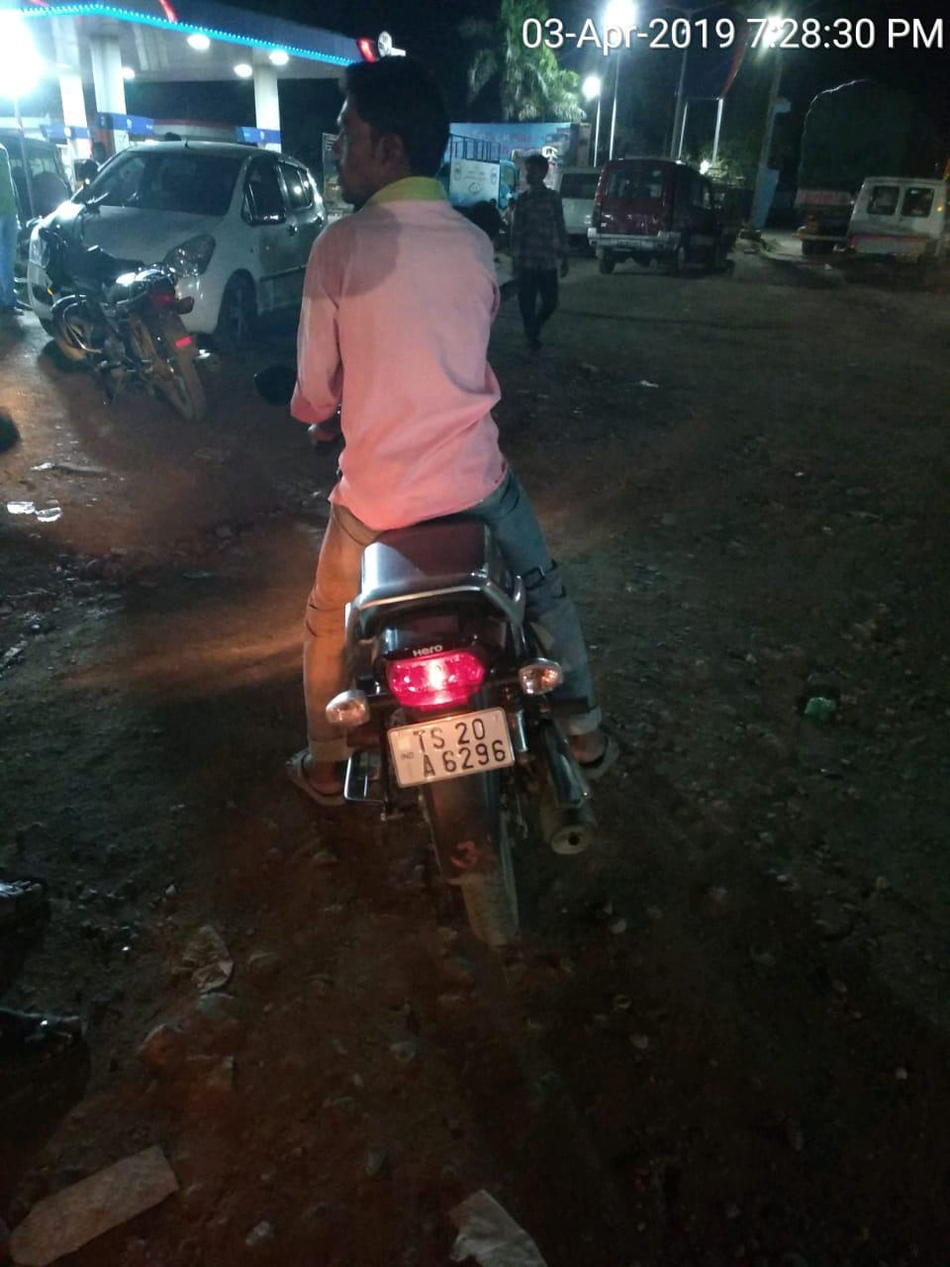plate: (365, 695, 542, 806)
